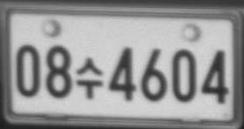0: (170, 47, 197, 102), (15, 44, 40, 97)
4: (108, 46, 137, 101), (201, 49, 230, 104)
6: (141, 48, 168, 101)
8: (45, 44, 72, 98)
수: (76, 56, 104, 99)
